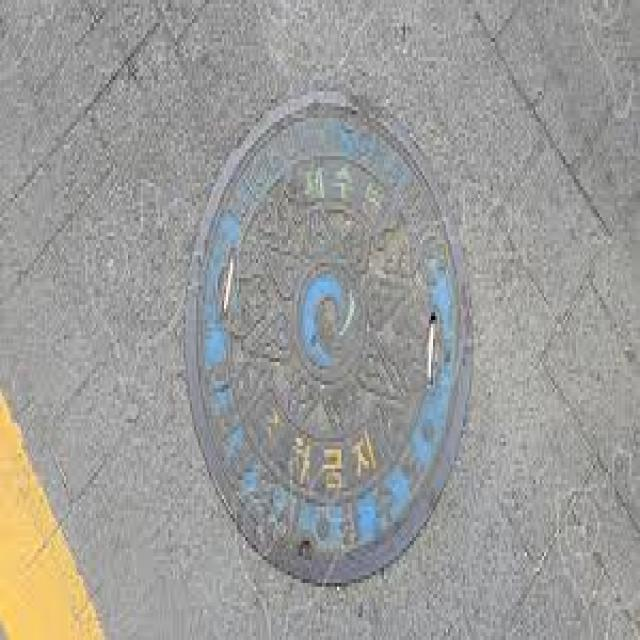manhole: (188, 91, 468, 584)
